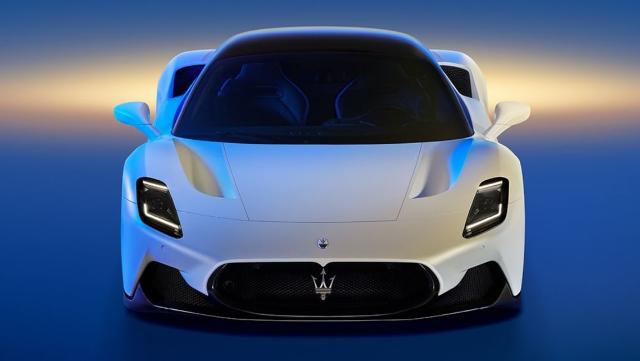maserati: (113, 26, 532, 334)
